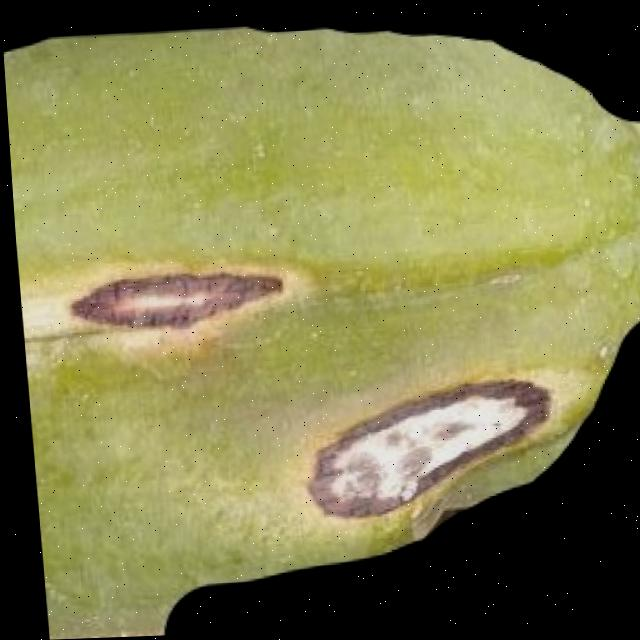mite: (61, 248, 559, 542)
spots: (2, 5, 640, 640)
sunburn: (292, 376, 559, 529)
